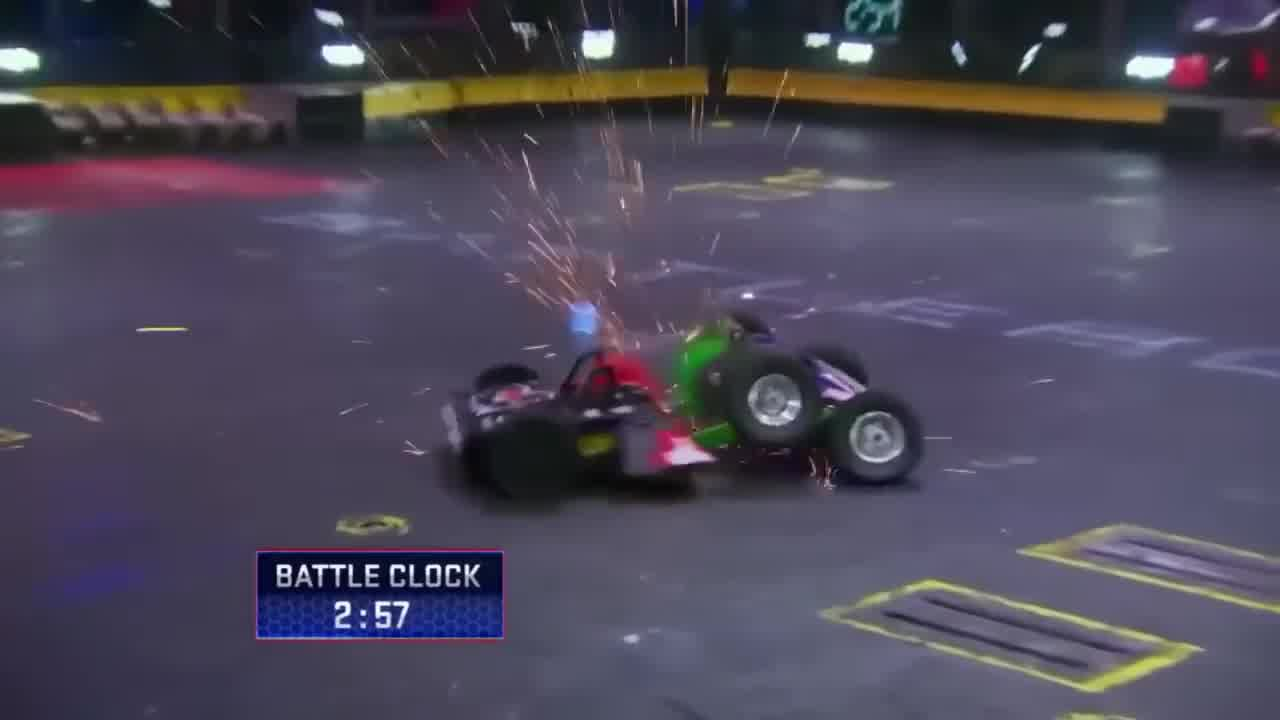combatbot: (674, 304, 931, 492), (432, 345, 716, 511)
